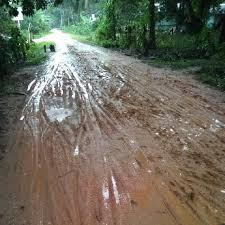Pothole: (27, 59, 113, 150)
